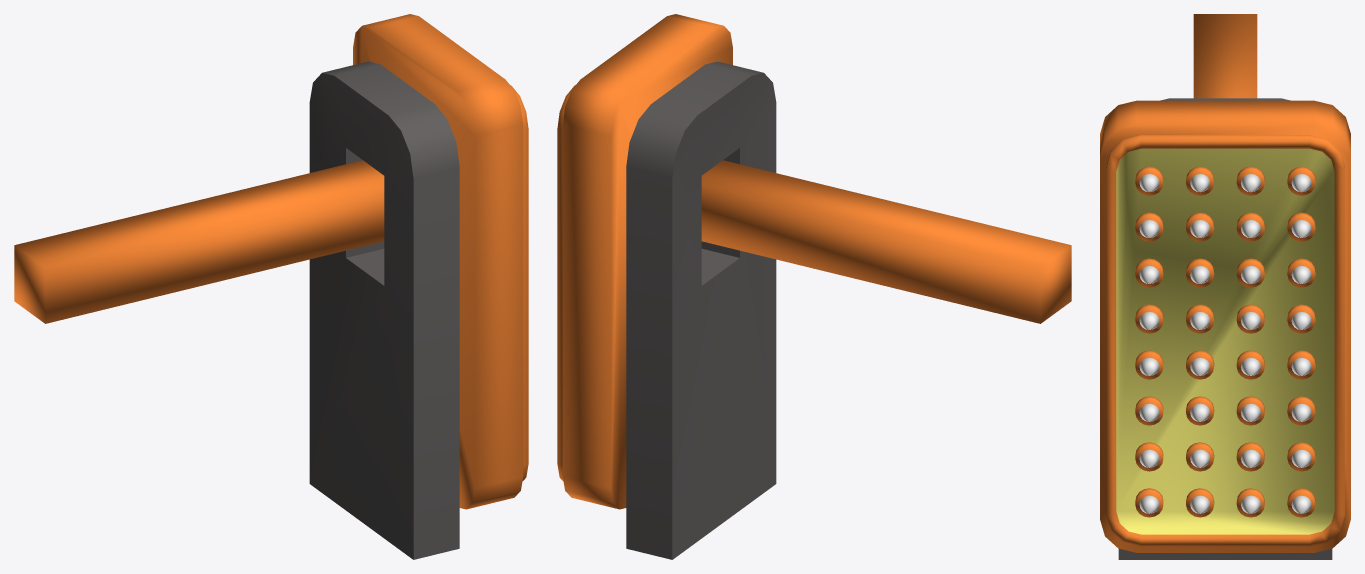
File: Obstacle 9 V3.fbx
3 views of the same model, side by side, from view 1: azimuth 30°, elevation 25°; view 2: azimuth 150°, elevation 25°; view 3: azimuth 270°, elevation 25° (orthographic). The views are drawn at different scales.
Visible parts, largest first — view 1: O9 Part 1, O9 Part 2; view 2: O9 Part 1, O9 Part 2; view 3: O9 Part 1, O9 Part 2.
Part boxes in pixels (x1,y1,x2,y2): O9 Part 1: (14, 14, 528, 509); O9 Part 2: (309, 61, 459, 559); O9 Part 1: (557, 14, 1071, 509); O9 Part 2: (626, 61, 776, 559); O9 Part 1: (1100, 14, 1350, 552); O9 Part 2: (1118, 98, 1332, 559).
Size of the model in its own units: 142 by 133 by 65.29.
1 material, 1 textured.
